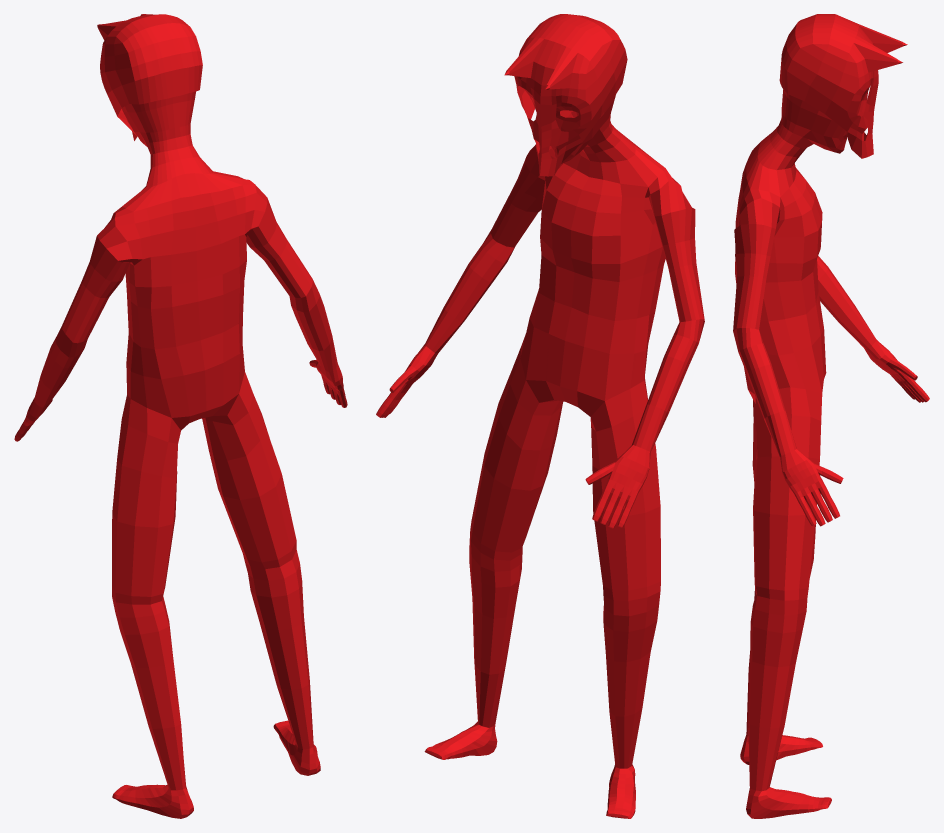
File: reposoE_000297.obj
The picture shows the model from 3 angles, left to right: view 1: azimuth 30°, elevation 25°; view 2: azimuth 150°, elevation 25°; view 3: azimuth 270°, elevation 25°; orthographic projection. The views are drawn at different scales.
Visible parts, largest first — view 1: Plane.002_Plane.001; view 2: Plane.002_Plane.001; view 3: Plane.002_Plane.001.
Part boxes in pixels (x1=…): Plane.002_Plane.001: x1=14, y1=14, x2=347, y2=818; Plane.002_Plane.001: x1=376, y1=14, x2=704, y2=818; Plane.002_Plane.001: x1=733, y1=14, x2=929, y2=818.
Bounding box in the file's own units: 2.88 × 7.16 × 1.71.
